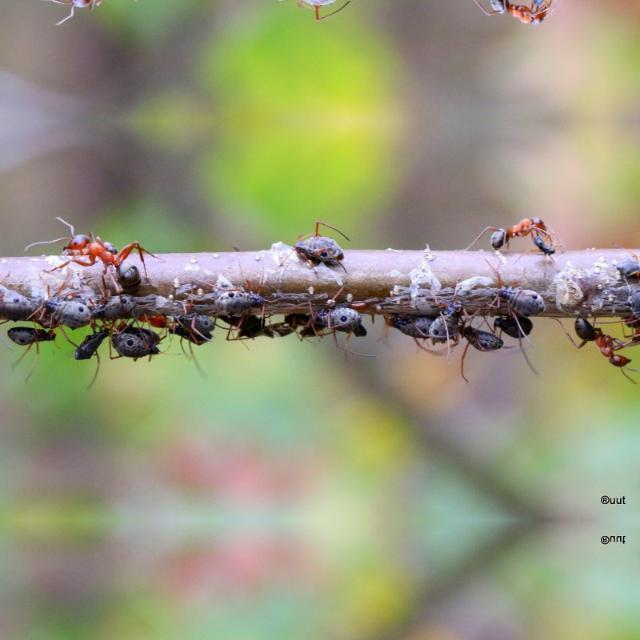Formica: (56, 216, 154, 300), (558, 305, 634, 371), (481, 205, 555, 257), (481, 0, 555, 34), (56, 0, 154, 24)
